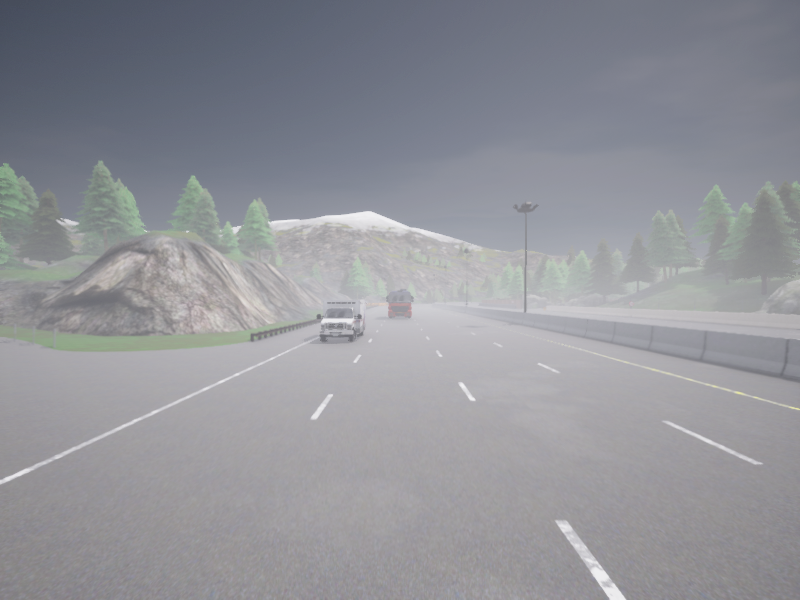vehicle: (317, 300, 365, 342), (386, 289, 413, 318), (465, 301, 470, 304)
